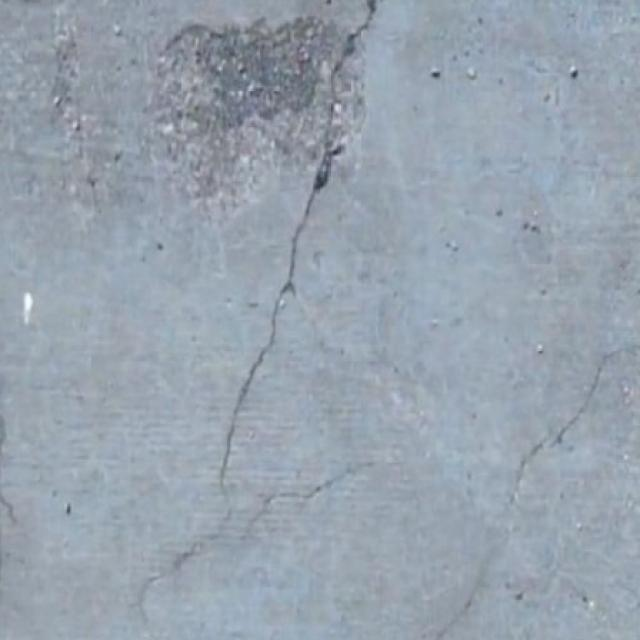Alligator Crack: (157, 12, 370, 222)
Diagonal Crack: (431, 342, 639, 640)
Vertical Crack: (135, 0, 381, 635)
